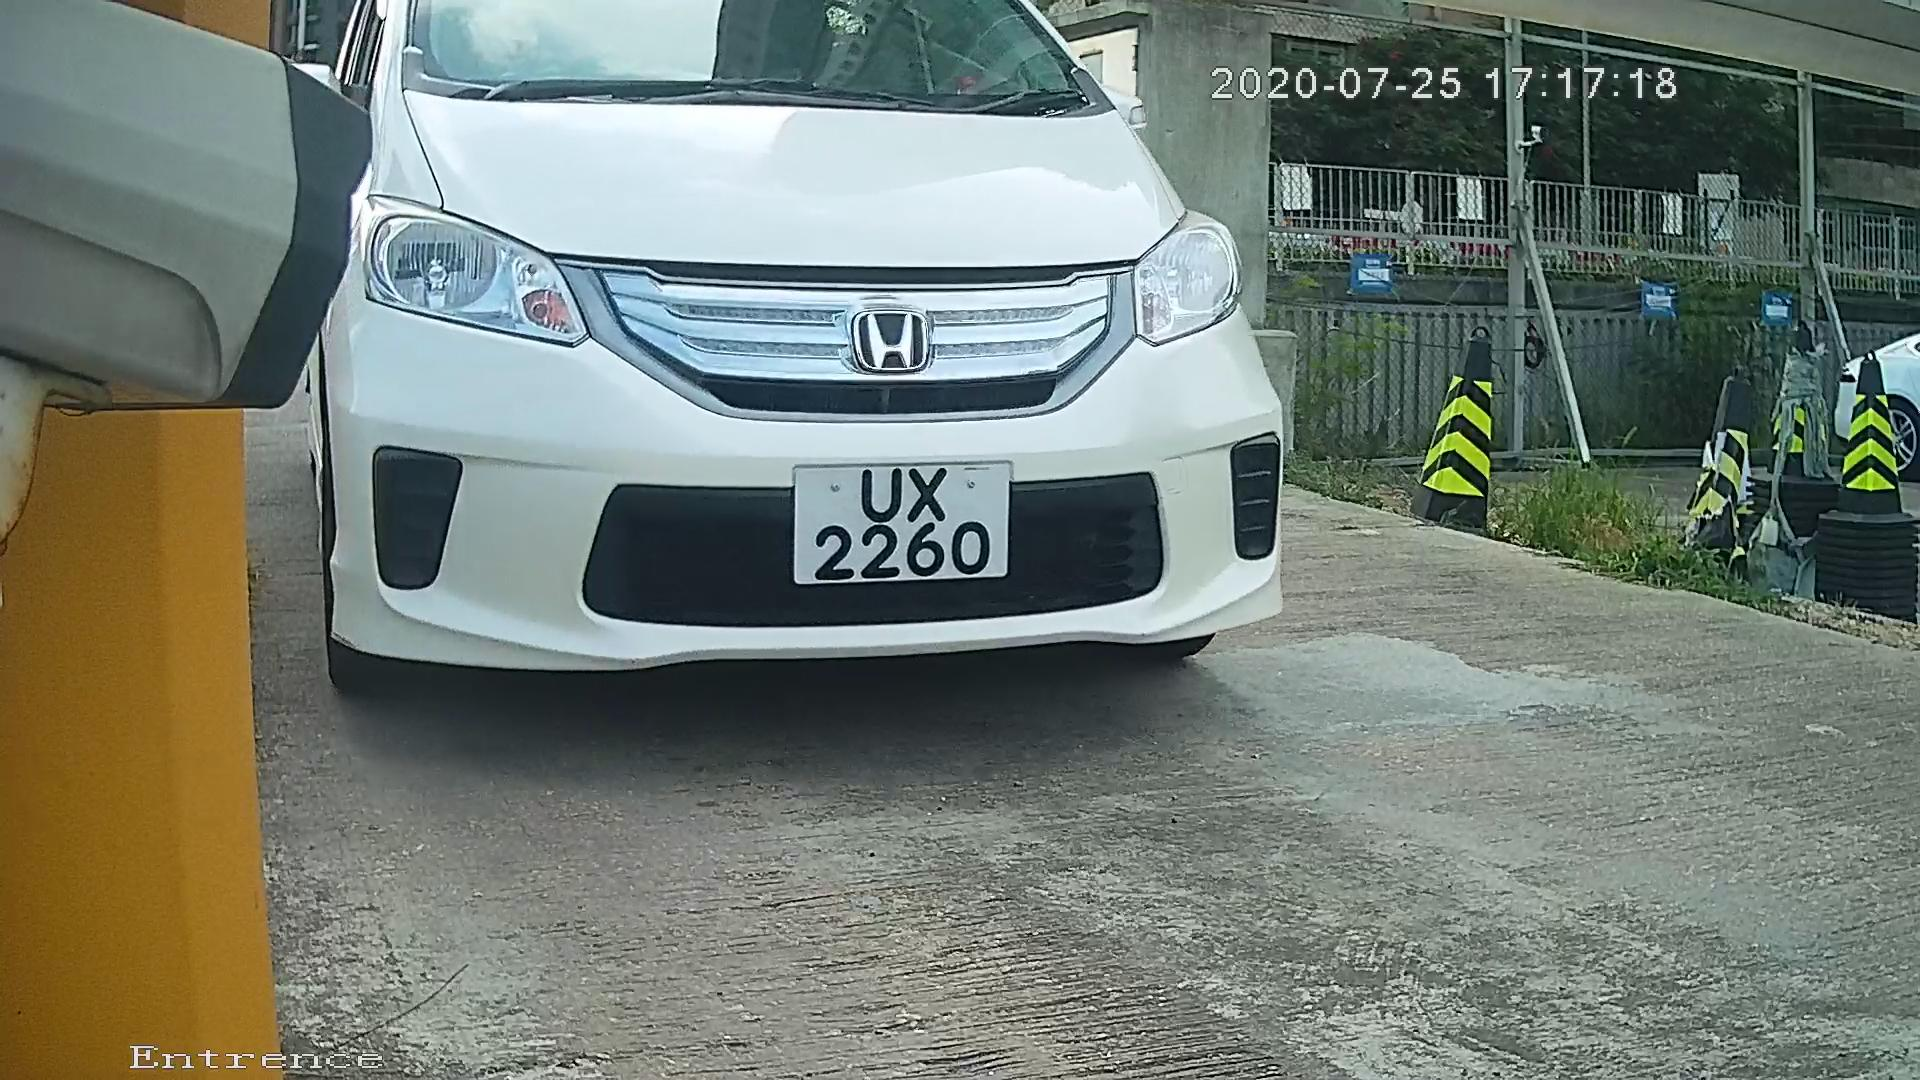Car: (112, 1, 1372, 743)
License Plate: (763, 449, 1029, 594)
